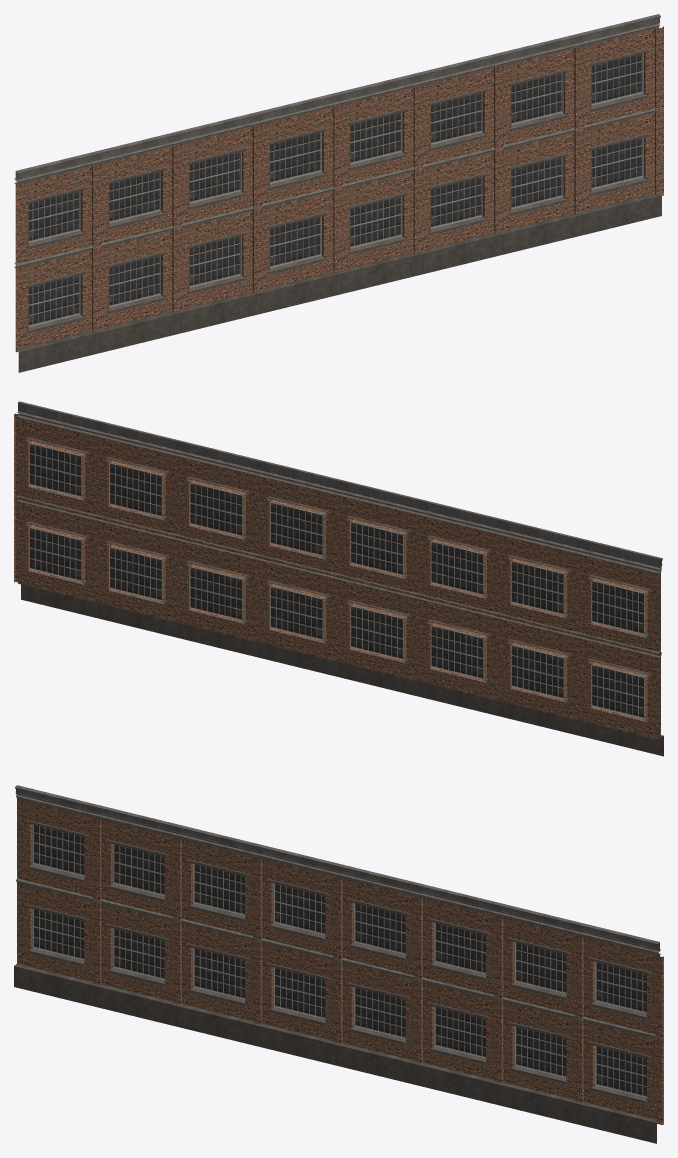
File: modular_factory_facade.glb
3 renders of one model, top to bottom at view 1: azimuth 30°, elevation 25°; view 2: azimuth 150°, elevation 25°; view 3: azimuth 330°, elevation 25°, orthographic.
Parts seen in each view (by area): view 1: wall_window_centered_large_01 (×16), window_centered_large_01 (×16), base_standard_standard_01 (×8), wall_pier_standard_01 (×16), crown_standard_standard_01 (×8); view 2: wall_window_centered_large_01 (×16), window_centered_large_01 (×16), base_standard_standard_01 (×8), crown_standard_standard_01 (×8); view 3: wall_window_centered_large_01 (×16), window_centered_large_01 (×16), base_standard_standard_01 (×8), wall_pier_standard_01 (×16), crown_standard_standard_01 (×8).
Boxes of the visible parts, x1,y1,x2,y2 form: wall_window_centered_large_01 (×16): (15, 27, 658, 352); window_centered_large_01 (×16): (26, 49, 648, 332); base_standard_standard_01 (×8): (16, 193, 661, 372); wall_pier_standard_01 (×16): (92, 26, 663, 331); crown_standard_standard_01 (×8): (15, 14, 660, 180); wall_window_centered_large_01 (×16): (18, 417, 660, 740); window_centered_large_01 (×16): (26, 437, 650, 721); base_standard_standard_01 (×8): (21, 584, 663, 756); crown_standard_standard_01 (×8): (18, 401, 662, 567); wall_window_centered_large_01 (×16): (17, 798, 659, 1119); window_centered_large_01 (×16): (27, 820, 649, 1103); base_standard_standard_01 (×8): (14, 963, 658, 1143); wall_pier_standard_01 (×16): (92, 817, 663, 1125); crown_standard_standard_01 (×8): (15, 785, 659, 951).
Size of the model in its own units: 24.15 by 7.12 by 0.4.
Materials: 4 (4 with a texture image).
